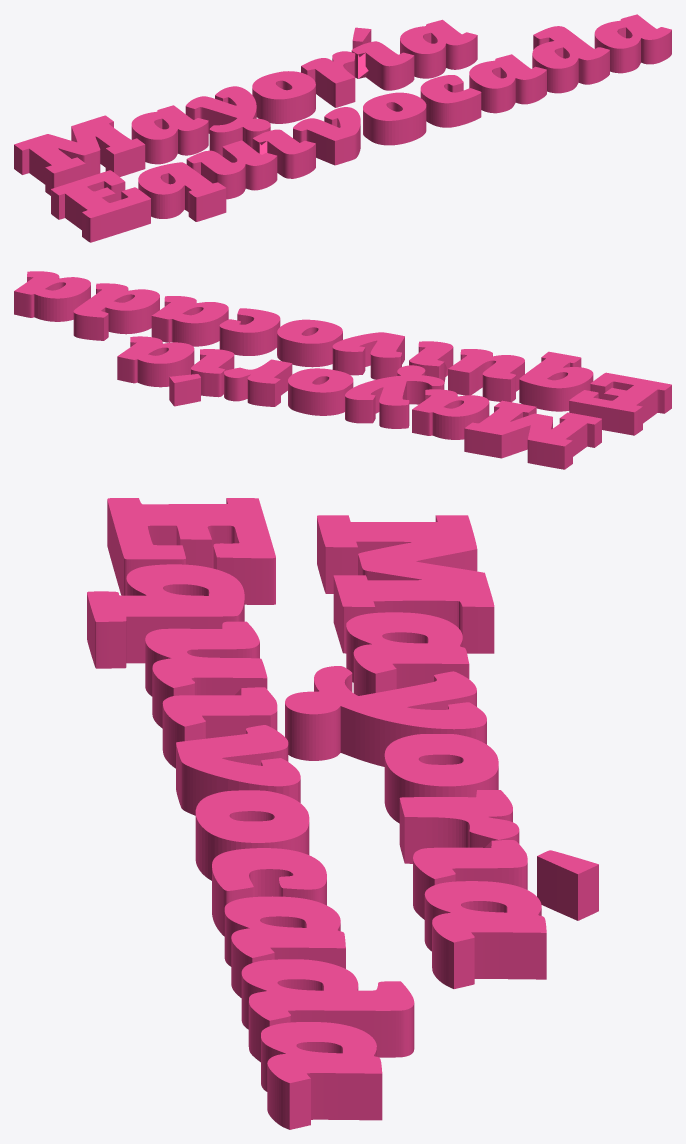
The model's file is mayoria.gltf.
The picture shows the model from 3 angles, top to bottom: view 1: azimuth 30°, elevation 25°; view 2: azimuth 150°, elevation 25°; view 3: azimuth 270°, elevation 25°; orthographic projection. The views are drawn at different scales.
Visible parts, largest first — view 1: Curve; view 2: Curve; view 3: Curve.
Part boxes in pixels (x1,y1,x2,y2): Curve: (14, 14, 671, 242); Curve: (14, 271, 671, 469); Curve: (87, 498, 598, 1129).
Bounding box in the file's own units: 13.43 × 0.5 × 4.96.
